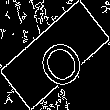O_NW: (24, 22, 86, 88)
